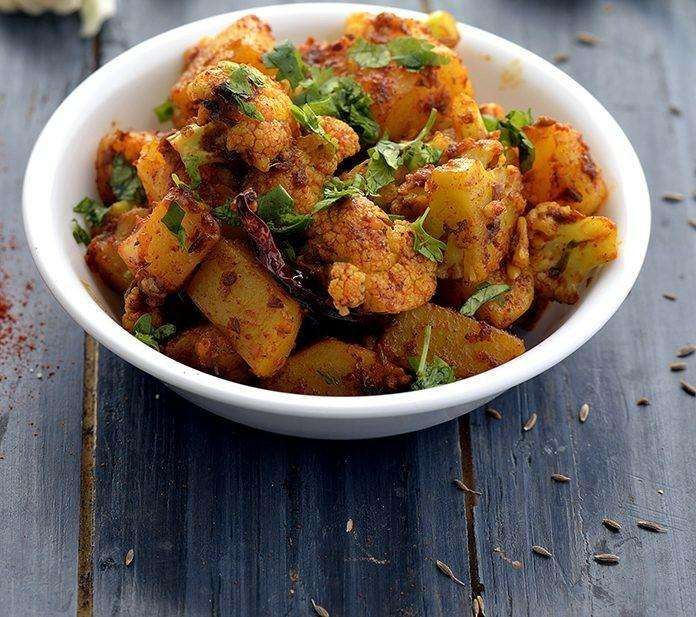AlooGobi: (75, 11, 615, 395)
